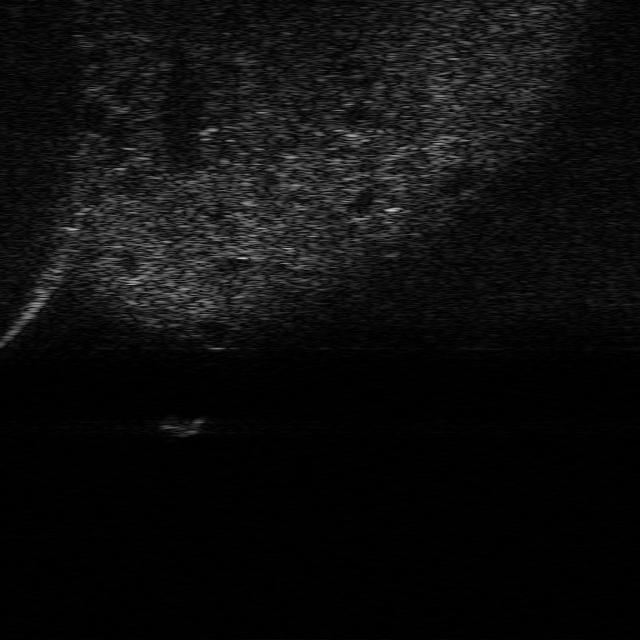cube: (158, 411, 206, 436)
